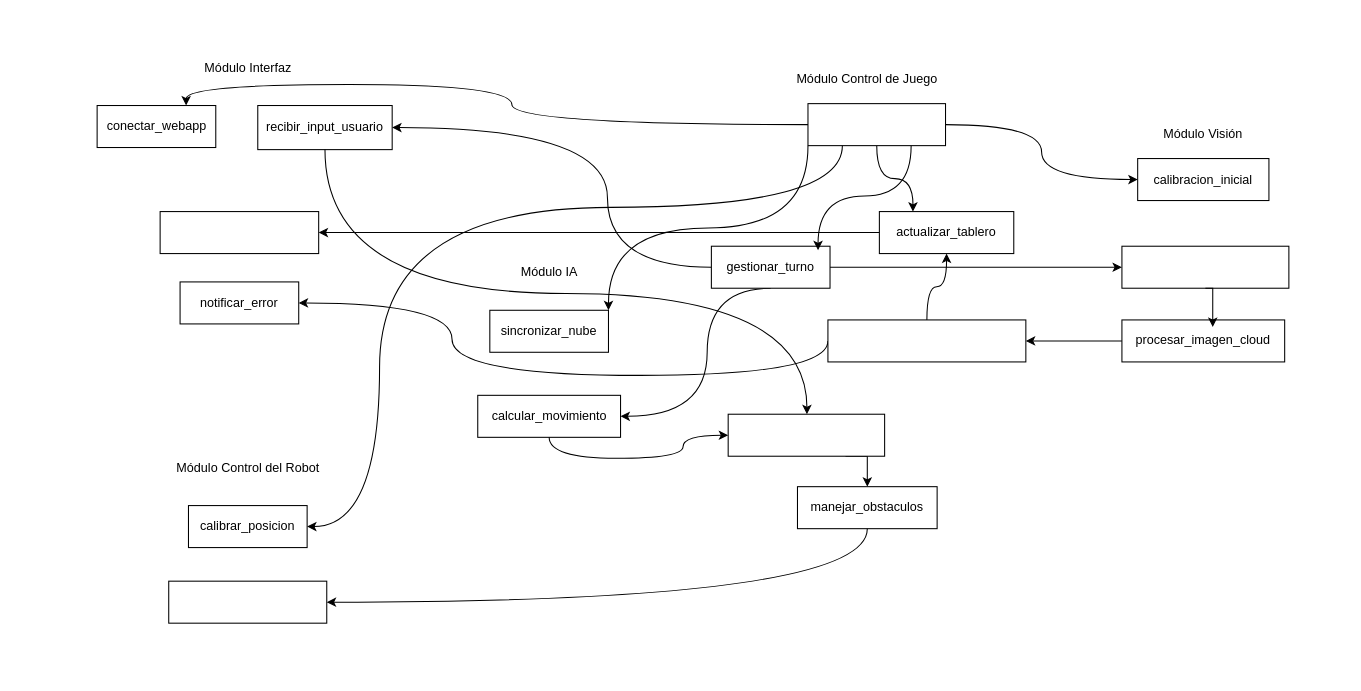
This 1361x691 diagram has some shape labels left out. Here are the shapes that lost their labels. From the top down, the centre of each, then its label:
point 876,124: inicializar_partida
point 239,232: actualizar_tablero_web
point 1205,266: capturar_imagen_local
point 926,340: validar_movimiento_fisico
point 806,434: notificar_movimiento
point 247,601: realizar_movimientos
